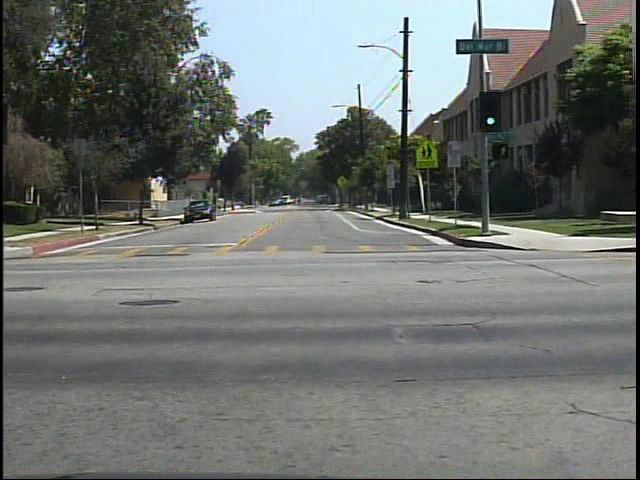person: (294, 193, 308, 210)
